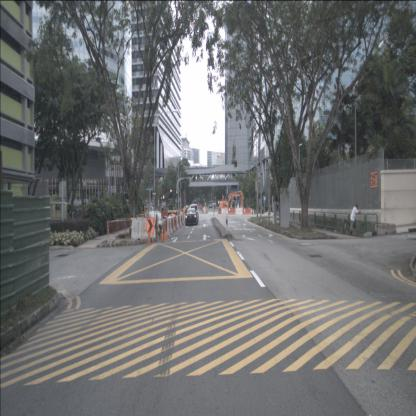barrier: (130, 218, 156, 241), (165, 218, 171, 238), (161, 219, 167, 239), (169, 217, 175, 234), (167, 218, 173, 235), (173, 215, 178, 231), (175, 215, 180, 230), (172, 216, 176, 232), (148, 211, 156, 218), (235, 207, 243, 214), (161, 211, 168, 218), (228, 207, 235, 214), (221, 207, 228, 214), (177, 216, 181, 228), (242, 208, 250, 214), (178, 215, 182, 227), (156, 213, 161, 220), (180, 215, 183, 226), (250, 209, 254, 214), (182, 215, 184, 224)
cone: (146, 229, 152, 245), (160, 226, 164, 242), (163, 225, 167, 240)
